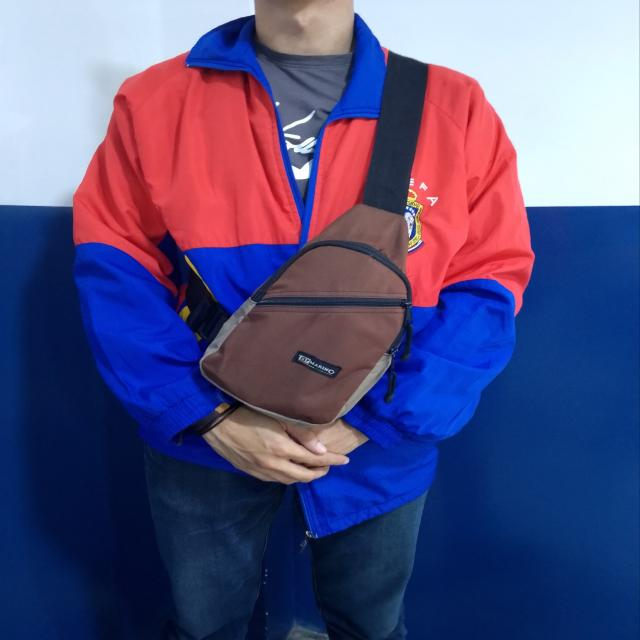chaqueta_unefa: (72, 12, 536, 540)
pantalon_oscuro: (145, 447, 430, 640)
